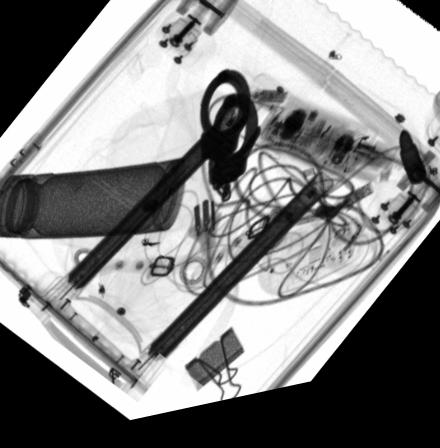Bullet: (397, 144, 426, 203)
HandCuffs: (200, 75, 263, 210)
